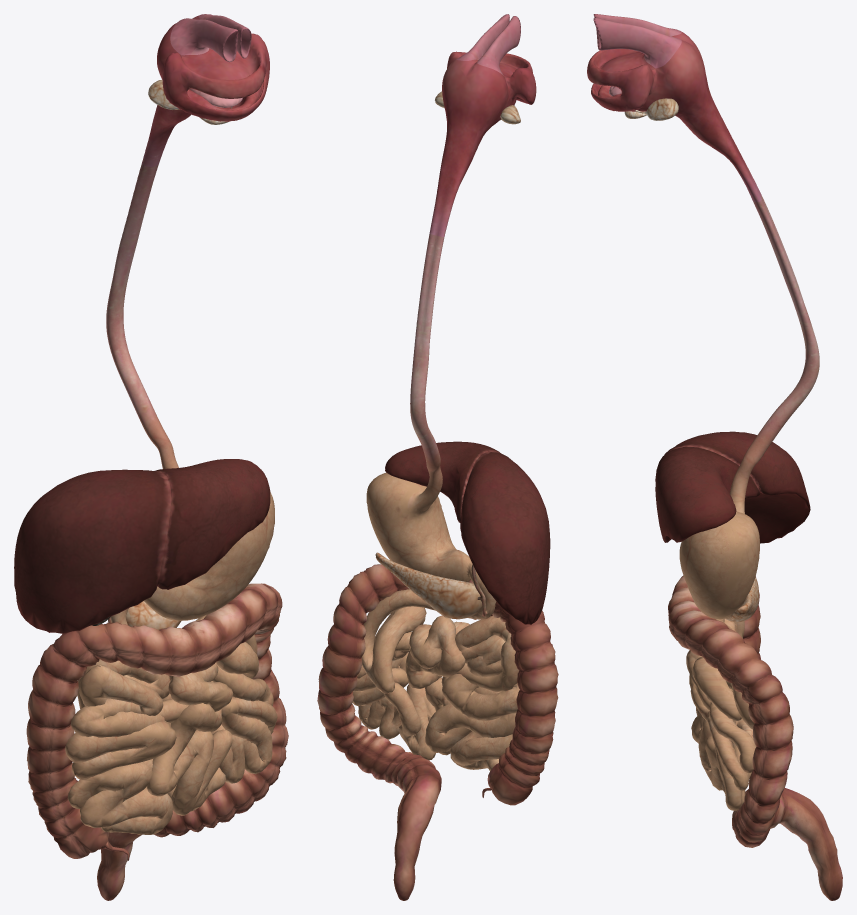
File: digestive_system.glb
The picture shows the model from 3 angles, left to right: view 1: azimuth 30°, elevation 25°; view 2: azimuth 150°, elevation 25°; view 3: azimuth 270°, elevation 25°; orthographic projection. The views are drawn at different scales.
Visible parts, largest first — view 1: DigestiveSystem_Digestive_System_0_0; view 2: DigestiveSystem_Digestive_System_0_0; view 3: DigestiveSystem_Digestive_System_0_0.
Part boxes in pixels (box(x1,y1,x2,y2)): DigestiveSystem_Digestive_System_0_0: box(14, 14, 288, 900); DigestiveSystem_Digestive_System_0_0: box(317, 14, 558, 900); DigestiveSystem_Digestive_System_0_0: box(587, 14, 842, 900).
Size of the model in its own units: 22.34 by 76.41 by 20.02.
Materials: 1 (1 with a texture image).
